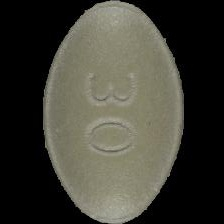55154-4875: (0, 0, 224, 224)
